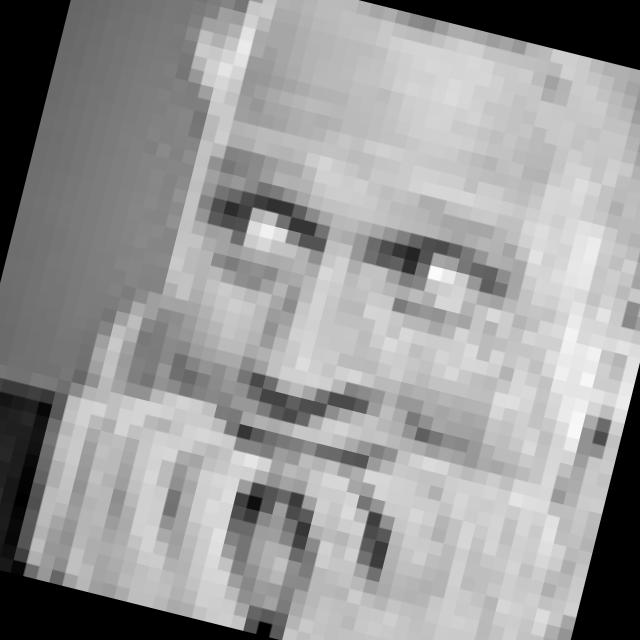fear: (133, 143, 534, 562)
